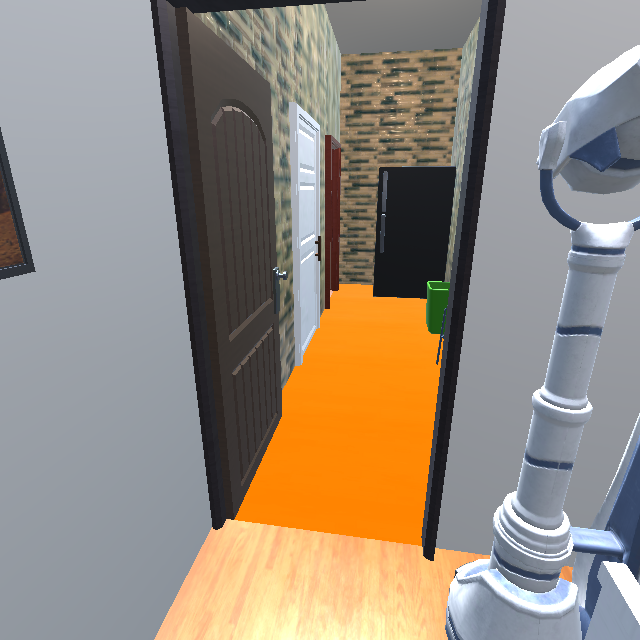open_doorway: (150, 0, 365, 529)
